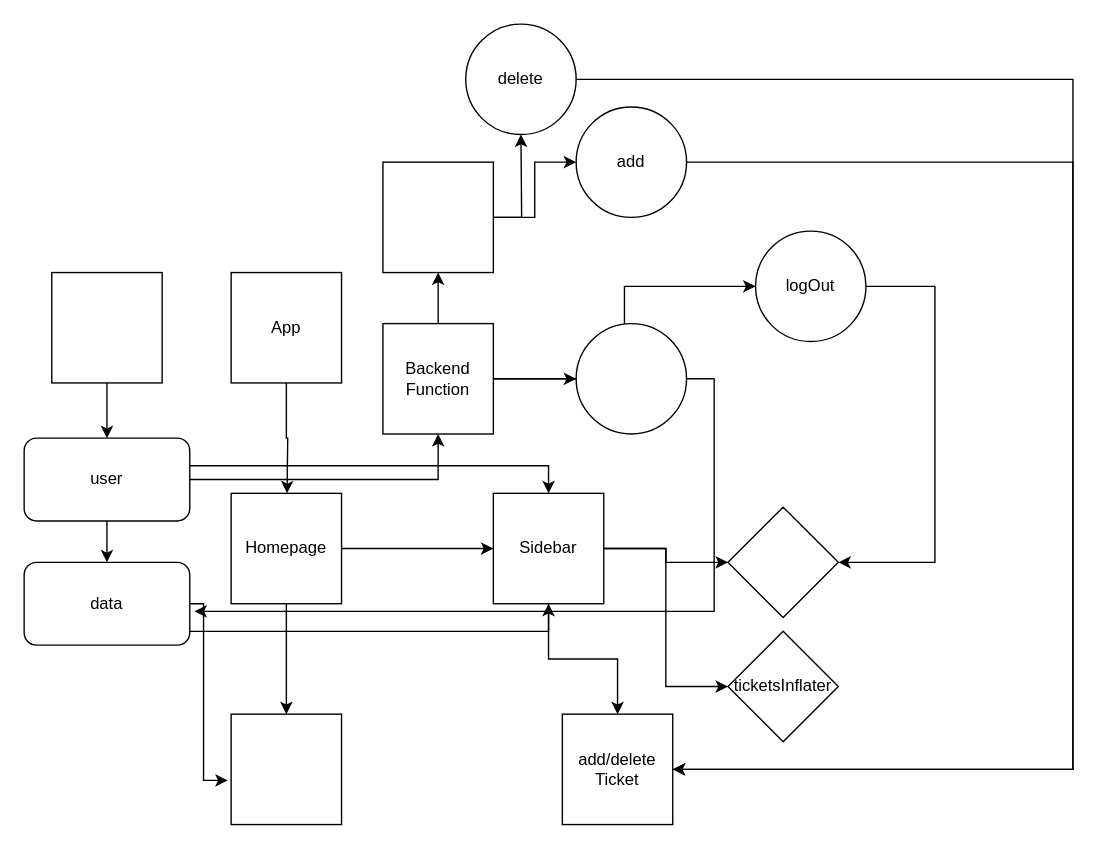
Some shapes in this 1108 by 849 pixel diagram are drawn without their labels. Here are the shapes that lost their labels. From the top down, the centre of each, then its label:
At [437,217]: "TicketOpera tions".
At [106,327]: "Store".
At [631,378]: "getAllData".
At [782,562]: "userBlock".
At [286,769]: "ticketComp".
